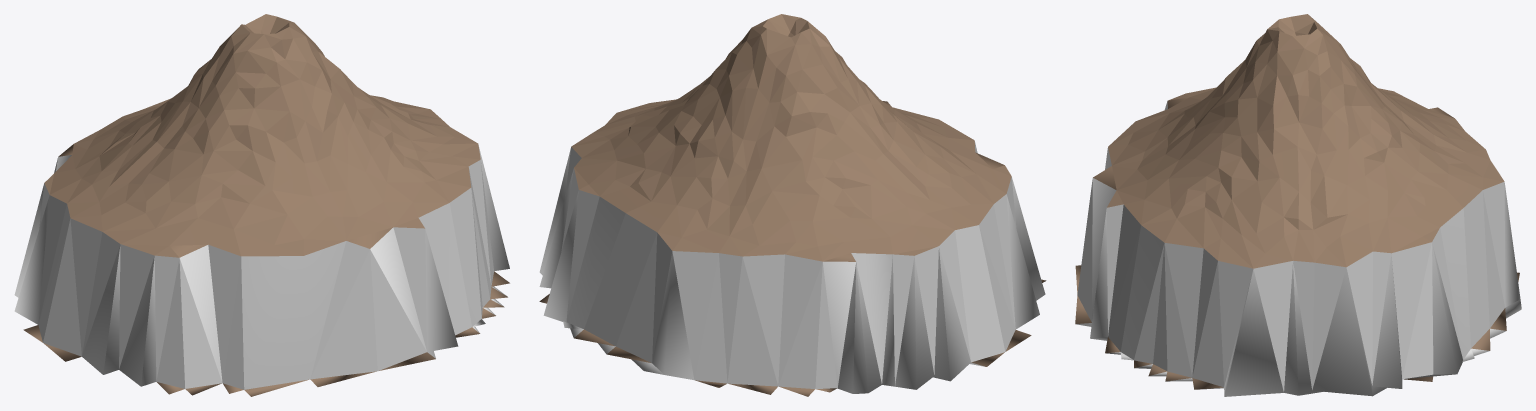
Rendered from Volcano_Mountain_01.fbx.
3 renders of one model, left to right at view 1: azimuth 30°, elevation 25°; view 2: azimuth 150°, elevation 25°; view 3: azimuth 270°, elevation 25°, orthographic.
Parts seen in each view (by area): view 1: Volcano_Mountain_01; view 2: Volcano_Mountain_01; view 3: Volcano_Mountain_01.
Boxes of the visible parts, x1,y1,x2,y2 form: Volcano_Mountain_01: (14, 14, 509, 396); Volcano_Mountain_01: (539, 14, 1046, 396); Volcano_Mountain_01: (1075, 14, 1521, 396).
Bounding box in the file's own units: 21503 × 12954 × 19239.
